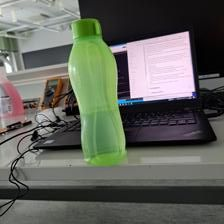bottle: (65, 15, 127, 169)
